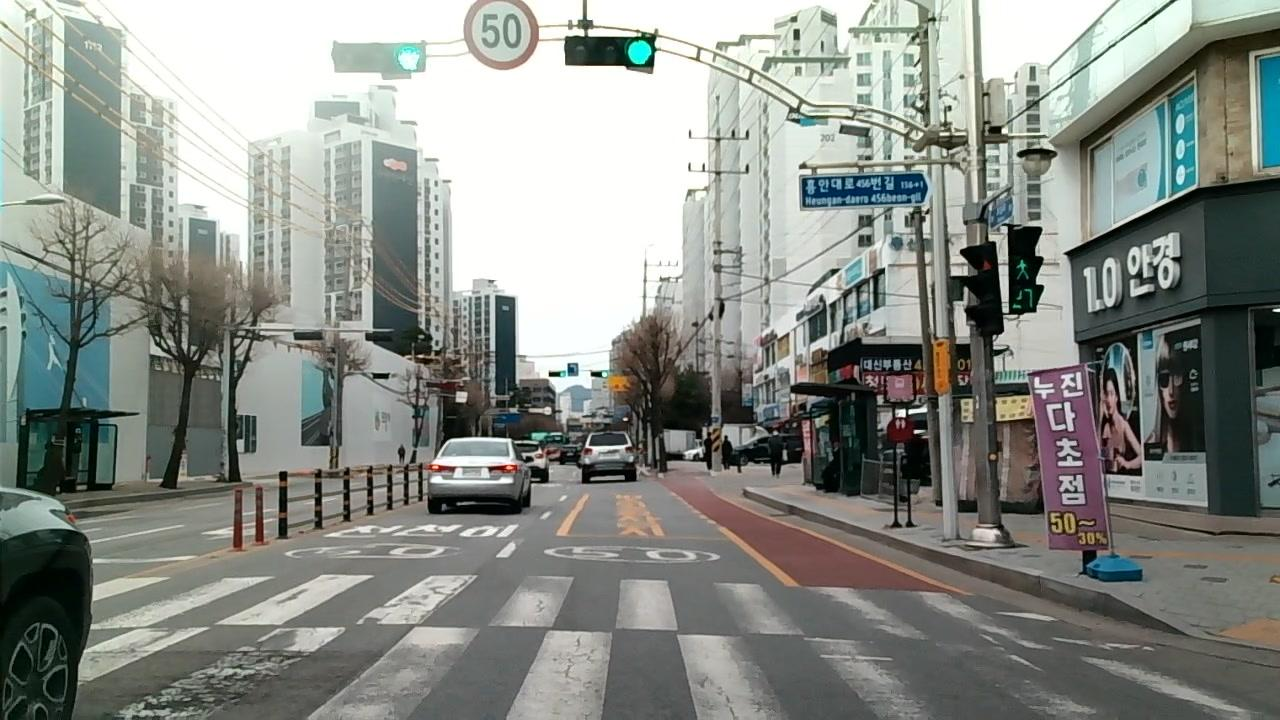banner: (133, 642, 303, 720)
